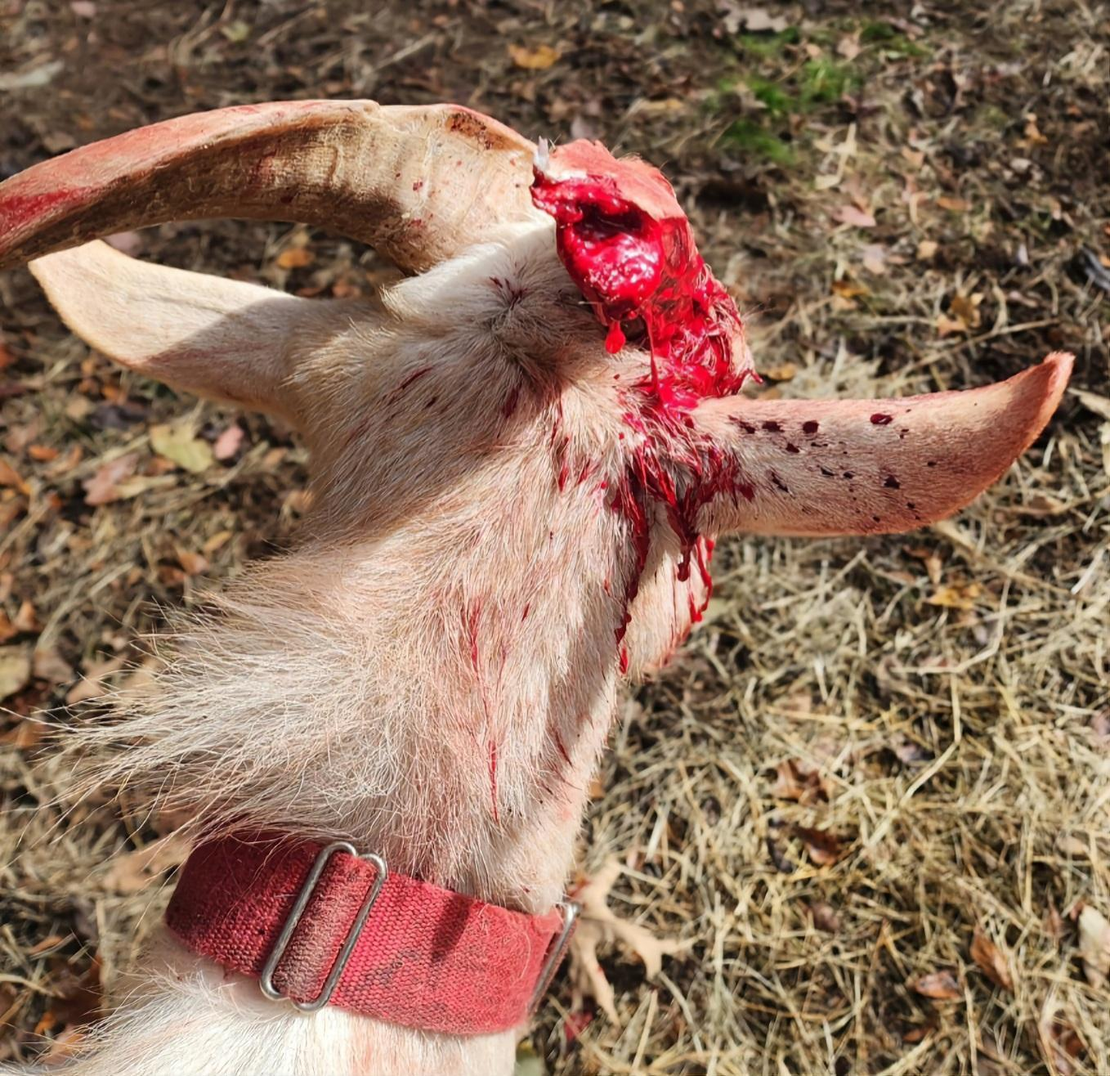bleeding: (503, 117, 834, 506)
